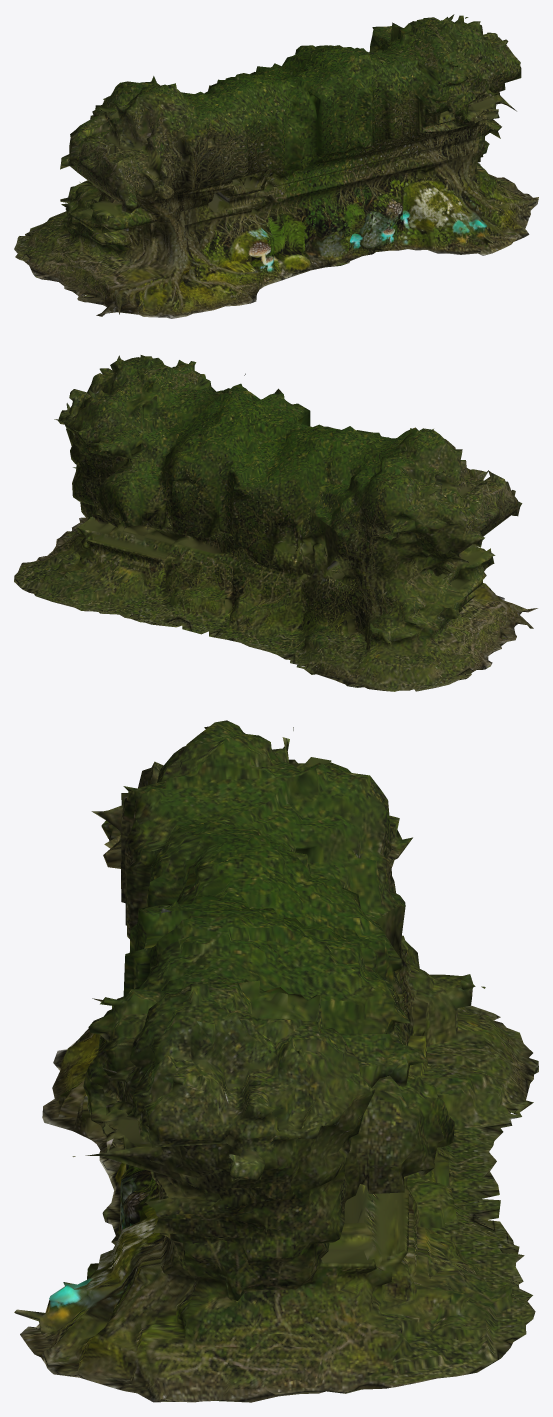
Rendered from bramble_hedge.glb.
The picture shows the model from 3 angles, top to bottom: view 1: azimuth 30°, elevation 25°; view 2: azimuth 150°, elevation 25°; view 3: azimuth 270°, elevation 25°; orthographic projection. The views are drawn at different scales.
Bounding box in the file's own units: 0.9978 × 0.4163 × 0.5397.
Materials: 1 (1 with a texture image).
